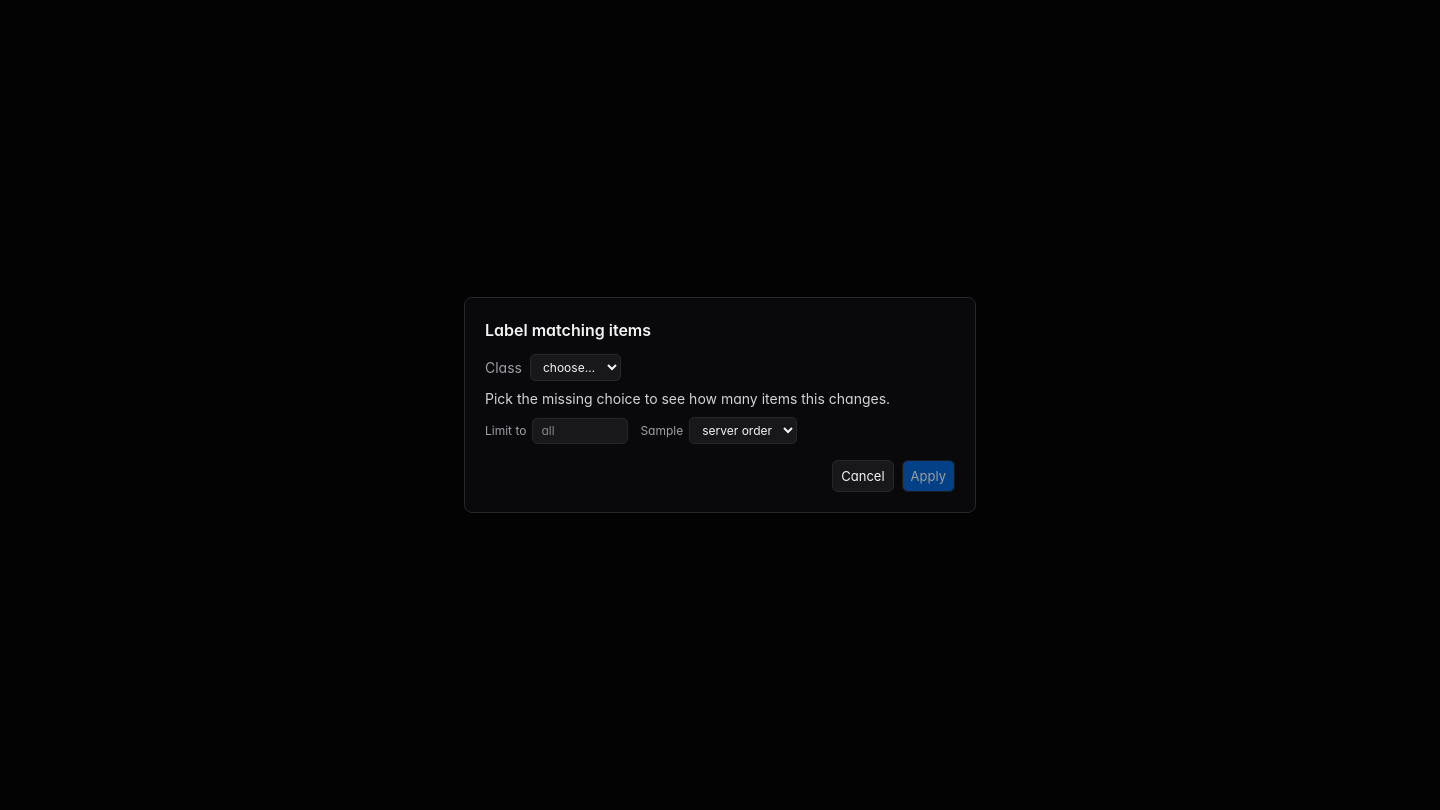
Test case: SelectionActionDialog › label asks for a class before any request, then dry-runs with it
Check: the button "Apply" is disabled, box x1=902 y1=460 x2=955 y2=492
Select "widget" in the dropdown with test id "selection-class": (576, 368) x1=530 y1=354 x2=621 y2=381
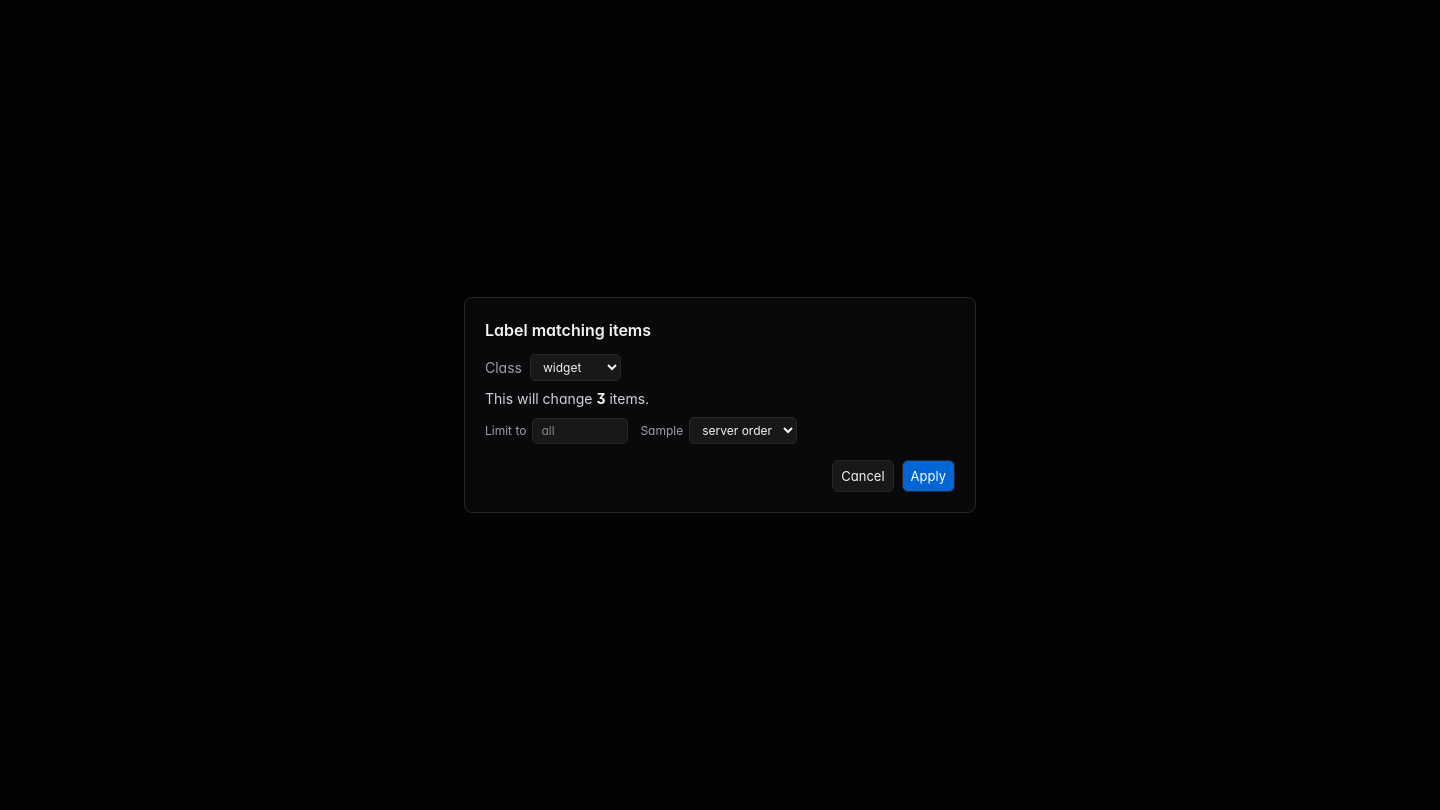
Check: the element with test id "selection-count" shows "3", box x1=596 y1=390 x2=606 y2=407
